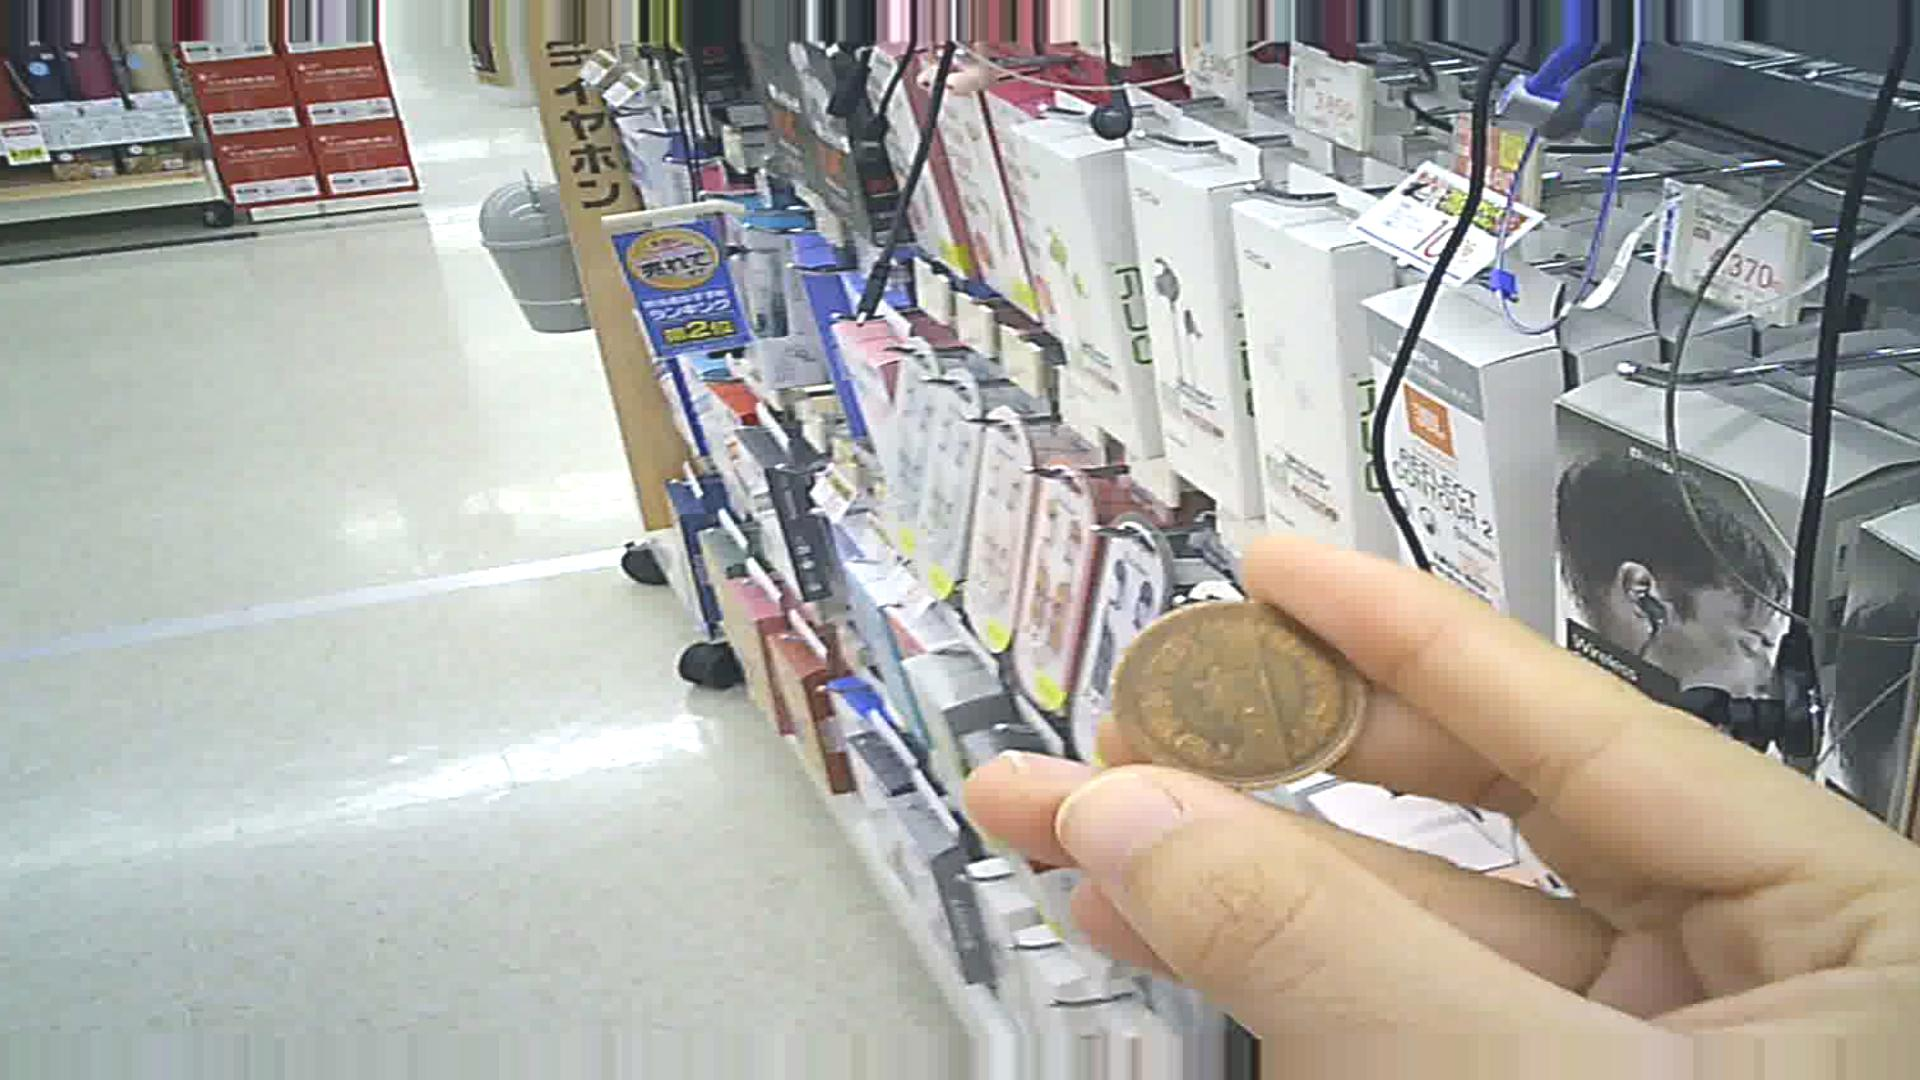10 Yen: (1106, 582, 1360, 787)
